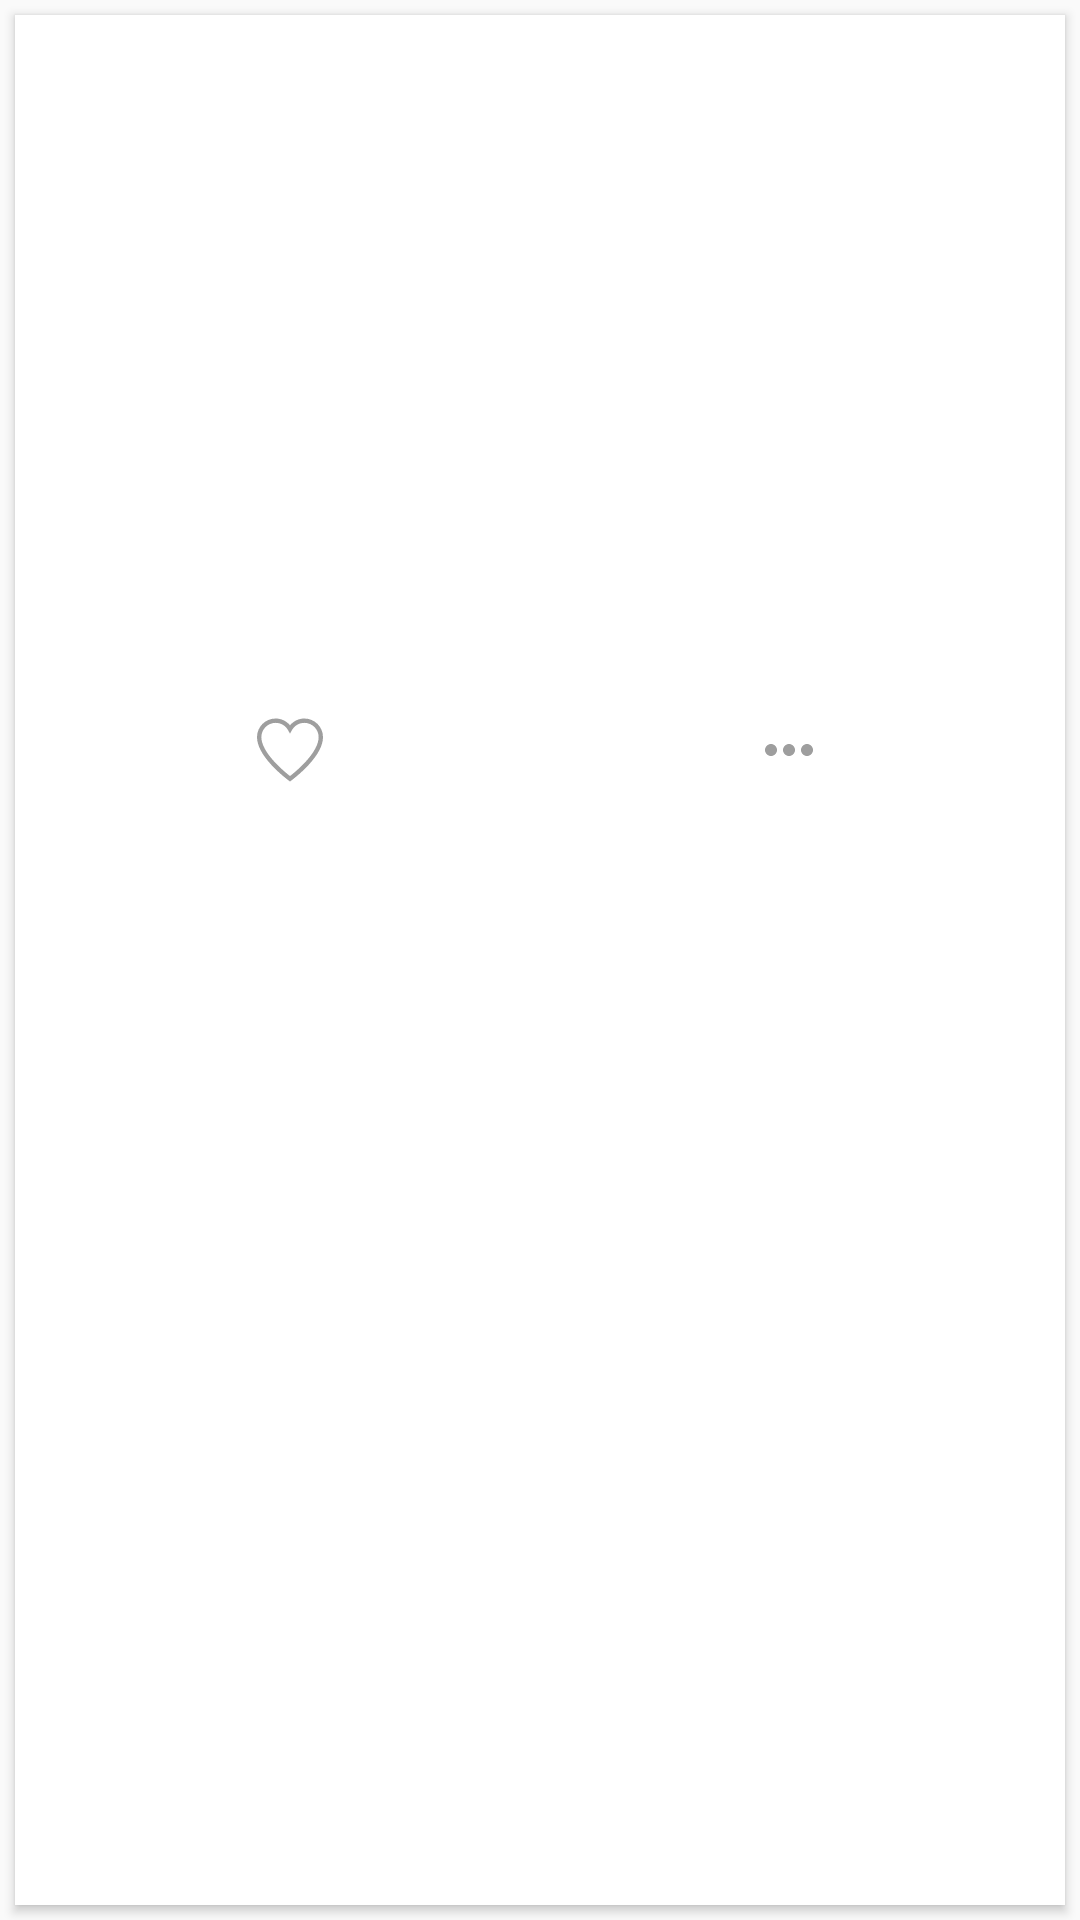

Named icons in this screenshot (1080*1920) and their centers, [x,y]:
dots: [789,750]
favorite: [290,749]
